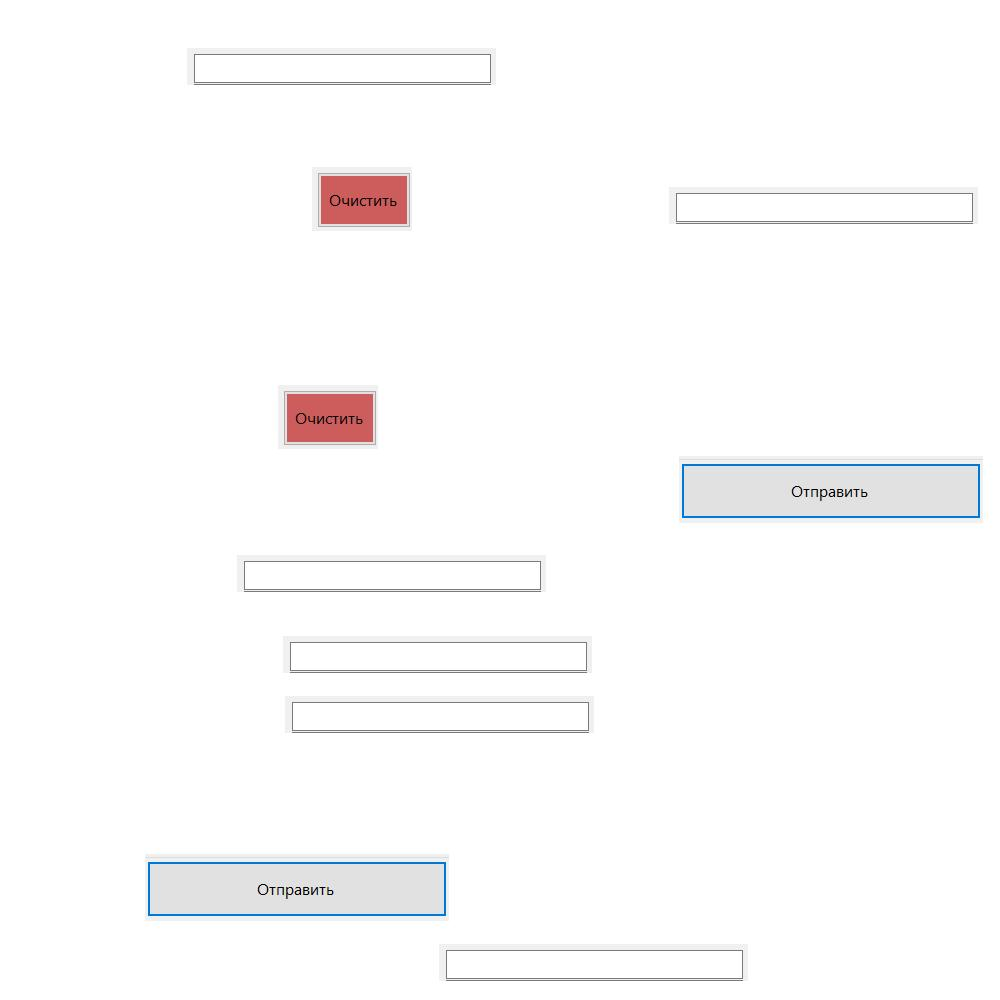Button: (145, 854, 449, 921), (679, 456, 983, 523), (312, 167, 412, 231), (278, 385, 378, 449)
EditText-: (285, 696, 594, 733), (283, 636, 592, 673), (237, 555, 546, 592), (669, 187, 978, 224), (439, 944, 748, 981), (187, 48, 496, 85)
